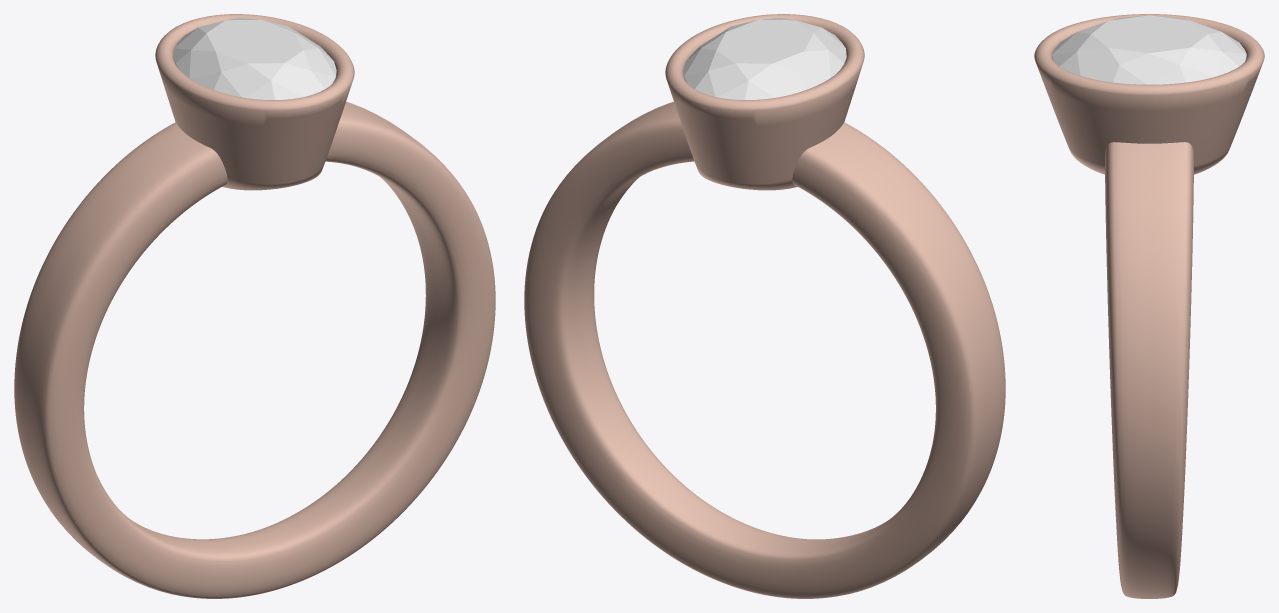
The model's file is diamond-oval-rosegold-bezelset-straighttaperedband-nosidestones.glb.
3 renders of one model, left to right at view 1: azimuth 30°, elevation 25°; view 2: azimuth 150°, elevation 25°; view 3: azimuth 270°, elevation 25°, orthographic.
Parts seen in each view (by area): view 1: metal, stone; view 2: metal, stone; view 3: metal, stone.
Part boxes in pixels (x1=…): metal: x1=14, y1=14, x2=495, y2=598; stone: x1=173, y1=17, x2=336, y2=99; metal: x1=524, y1=14, x2=1005, y2=598; stone: x1=683, y1=17, x2=846, y2=99; metal: x1=1034, y1=14, x2=1264, y2=598; stone: x1=1052, y1=15, x2=1246, y2=84.
Size of the model in its own units: 20.49 by 23.41 by 9.04.
